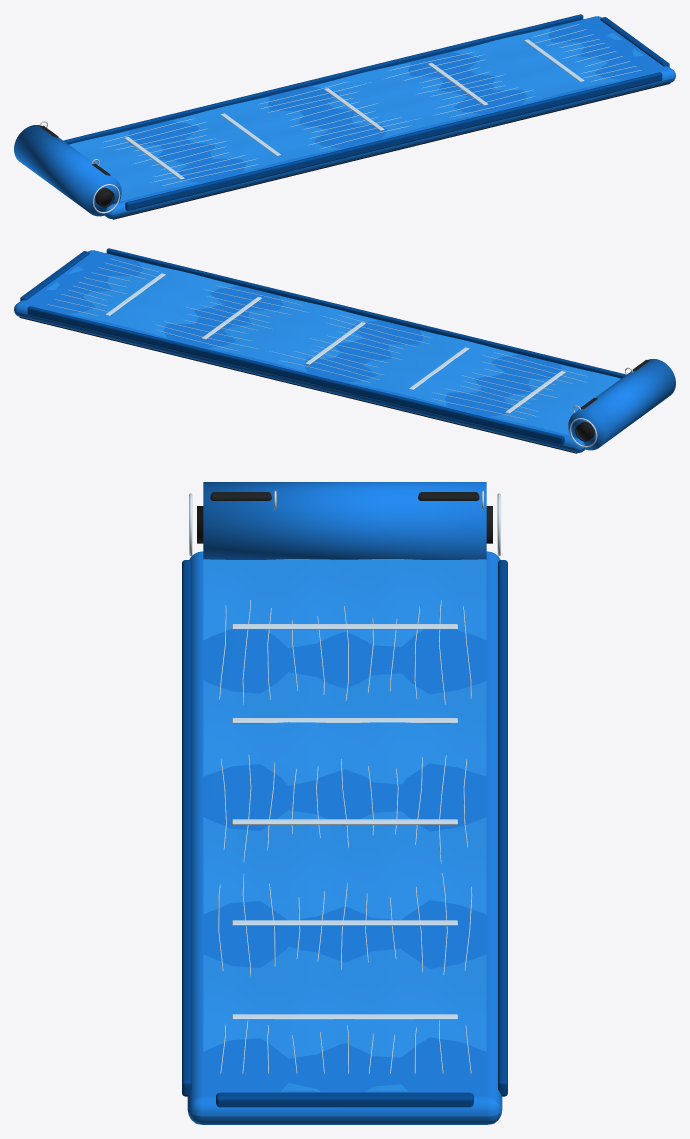
Rendered from Bodenlaeufer_3D.glb.
3 renders of one model, top to bottom at view 1: azimuth 30°, elevation 25°; view 2: azimuth 150°, elevation 25°; view 3: azimuth 270°, elevation 25°, orthographic. The views are drawn at different scales.
Visible parts, largest first — view 1: slightly wavy fabric top surface of floor runner, long low padded blue roll out floor runner body, dark left reinforced stitched runner side edge, partially rolled blue runner cylinder core, dark right reinforced stitched runner side edge, black visible anti slip underside lip, dark front runner binding strip, floor runner subtle woven lengthwise fiber 01, floor runner subtle woven lengthwise fiber 09, floor runner subtle woven lengthwise fiber 00, floor runner subtle woven lengthwise fiber 10, floor runner subtle woven lengthwise fiber 08 (+2 smaller); view 2: slightly wavy fabric top surface of floor runner, long low padded blue roll out floor runner body, dark right reinforced stitched runner side edge, partially rolled blue runner cylinder core, dark left reinforced stitched runner side edge, black visible anti slip underside lip, dark front runner binding strip, floor runner subtle woven lengthwise fiber 01, floor runner subtle woven lengthwise fiber 09, floor runner subtle woven lengthwise fiber 10, floor runner subtle woven lengthwise fiber 00, floor runner subtle woven lengthwise fiber 05 (+2 smaller); view 3: slightly wavy fabric top surface of floor runner, long low padded blue roll out floor runner body, partially rolled blue runner cylinder core, dark left reinforced stitched runner side edge, dark right reinforced stitched runner side edge, dark front runner binding strip, floor runner short pale transverse orientation stripe 00, floor runner short pale transverse orientation stripe 02, floor runner short pale transverse orientation stripe 03, floor runner short pale transverse orientation stripe 04, floor runner short pale transverse orientation stripe 01.
Boxes of the visible parts, box(x1,y1,x2,y2) form: slightly wavy fabric top surface of floor runner: box(69, 28, 643, 201); long low padded blue roll out floor runner body: box(104, 16, 675, 218); dark left reinforced stitched runner side edge: box(125, 72, 662, 210); partially rolled blue runner cylinder core: box(14, 125, 121, 216); dark right reinforced stitched runner side edge: box(63, 14, 583, 144); black visible anti slip underside lip: box(112, 83, 670, 219); dark front runner binding strip: box(600, 17, 669, 66); floor runner subtle woven lengthwise fiber 01: box(150, 66, 636, 182); floor runner subtle woven lengthwise fiber 09: box(102, 29, 586, 147); floor runner subtle woven lengthwise fiber 00: box(162, 70, 641, 185); floor runner subtle woven lengthwise fiber 10: box(103, 24, 579, 142); floor runner subtle woven lengthwise fiber 08: box(114, 34, 593, 150); slightly wavy fabric top surface of floor runner: box(46, 262, 620, 435); long low padded blue roll out floor runner body: box(14, 250, 585, 452); dark right reinforced stitched runner side edge: box(27, 306, 564, 444); partially rolled blue runner cylinder core: box(568, 359, 675, 450); dark left reinforced stitched runner side edge: box(106, 248, 625, 378); black visible anti slip underside lip: box(19, 317, 577, 453); dark front runner binding strip: box(20, 251, 89, 300); floor runner subtle woven lengthwise fiber 01: box(104, 262, 585, 381); floor runner subtle woven lengthwise fiber 09: box(54, 299, 535, 416); floor runner subtle woven lengthwise fiber 10: box(47, 304, 526, 419); floor runner subtle woven lengthwise fiber 00: box(110, 258, 586, 376); floor runner subtle woven lengthwise fiber 05: box(78, 282, 557, 397); slightly wavy fabric top surface of floor runner: box(203, 559, 486, 1091); long low padded blue roll out floor runner body: box(187, 551, 502, 1124); partially rolled blue runner cylinder core: box(203, 482, 486, 559); dark left reinforced stitched runner side edge: box(182, 560, 191, 1096); dark right reinforced stitched runner side edge: box(498, 560, 507, 1096); dark front runner binding strip: box(216, 1092, 473, 1107); floor runner short pale transverse orientation stripe 00: box(232, 624, 457, 629); floor runner short pale transverse orientation stripe 02: box(232, 819, 457, 824); floor runner short pale transverse orientation stripe 03: box(232, 920, 457, 925); floor runner short pale transverse orientation stripe 04: box(232, 1014, 457, 1019); floor runner short pale transverse orientation stripe 01: box(232, 718, 457, 723).
Size of the model in its own units: 3.98 by 0.2945 by 0.954.
